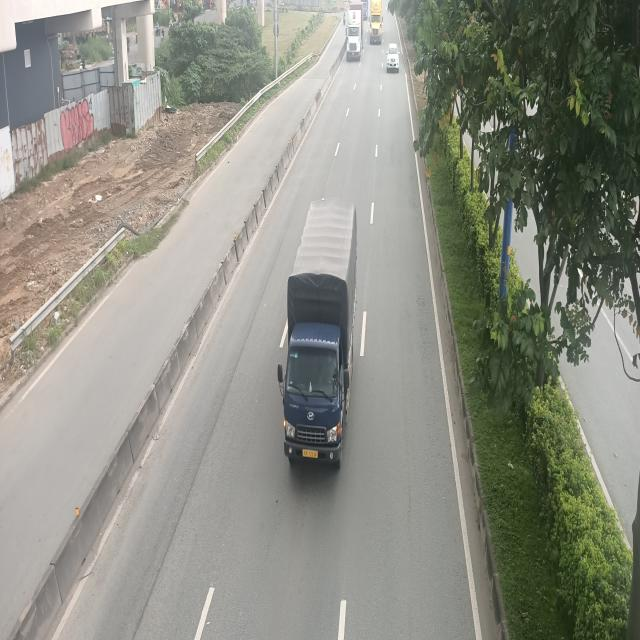car: (385, 43, 400, 72)
container: (344, 4, 363, 61), (370, 0, 384, 44)
truck: (276, 195, 360, 469)
